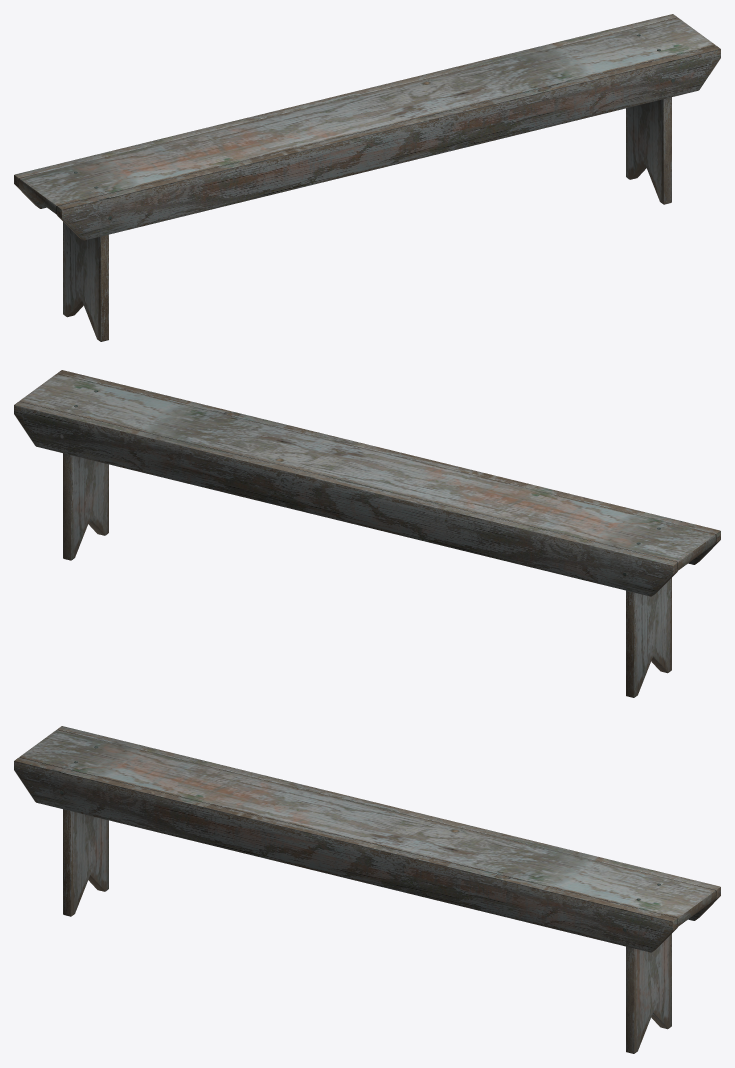
The model's file is wooden_vintage_bench.glb.
3 views of the same model, one above another, from view 1: azimuth 30°, elevation 25°; view 2: azimuth 150°, elevation 25°; view 3: azimuth 330°, elevation 25° (orthographic).
Parts seen in each view (by area): view 1: Mat_Vintage_bench-material; view 2: Mat_Vintage_bench-material; view 3: Mat_Vintage_bench-material.
Part boxes in pixels (box(x1,y1,x2,y2)): Mat_Vintage_bench-material: box(14, 14, 720, 341); Mat_Vintage_bench-material: box(14, 370, 720, 697); Mat_Vintage_bench-material: box(14, 726, 720, 1053).
Bounding box in the file's own units: 1.5 × 0.3208 × 0.1907.
1 material, 1 textured.
